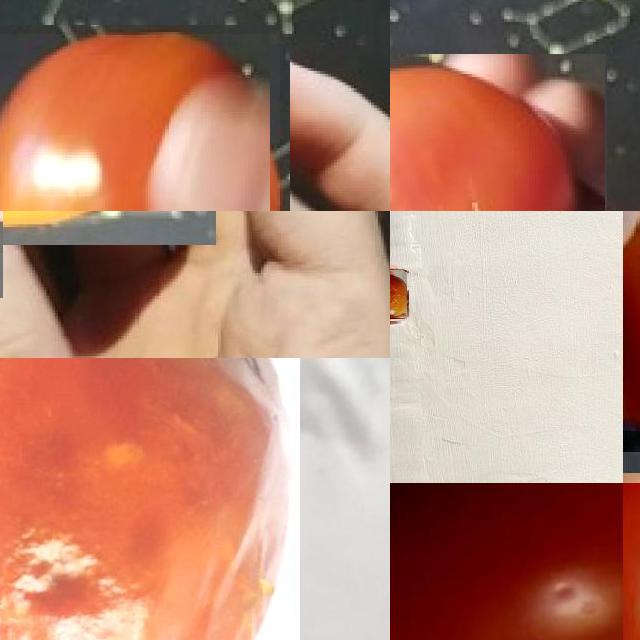Fresh Tomato: (0, 34, 280, 211), (390, 483, 623, 640), (0, 211, 216, 244)
Rotten Tomato: (0, 358, 300, 640), (390, 54, 606, 211), (390, 270, 407, 319)
